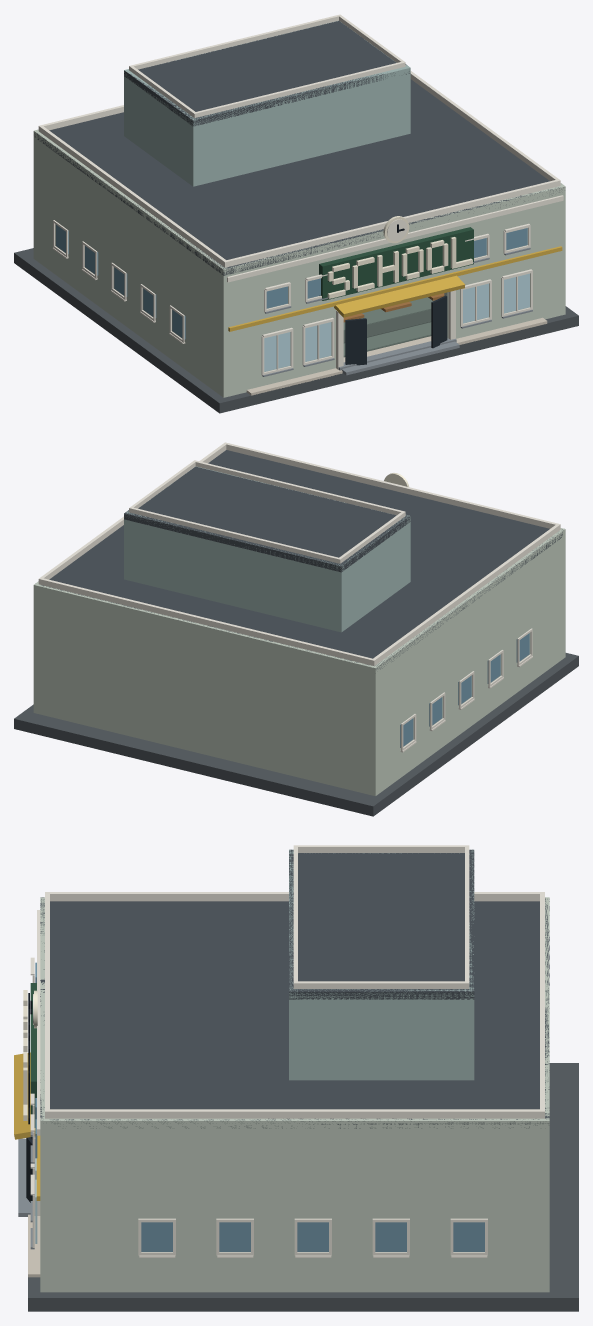
Rendered from school-building.glb.
3 renders of one model, top to bottom at view 1: azimuth 30°, elevation 25°; view 2: azimuth 150°, elevation 25°; view 3: azimuth 270°, elevation 25°, orthographic. The views are drawn at different scales.
Visible parts, largest first — view 1: school_cutaway_roof, school_exterior_detail, school_hull_wall_left, school_hull_wall_front, school_cutaway_upper, school_foundation, school_interior, school_hull_wall_right, school_hull_wall_back; view 2: school_cutaway_roof, school_hull_wall_back, school_hull_wall_left, school_cutaway_upper, school_foundation, school_exterior_detail, school_hull_wall_front; view 3: school_cutaway_roof, school_hull_wall_right, school_foundation, school_cutaway_upper, school_exterior_detail, school_hull_wall_back, school_hull_wall_front.
Part boxes in pixels (<box>): school_cutaway_roof: <box>34,14,563,275</box>; school_exterior_detail: <box>52,195,563,376</box>; school_hull_wall_left: <box>33,131,229,397</box>; school_hull_wall_front: <box>220,184,565,396</box>; school_cutaway_upper: <box>124,20,410,186</box>; school_foundation: <box>14,248,578,413</box>; school_interior: <box>343,293,444,357</box>; school_hull_wall_right: <box>558,183,565,314</box>; school_hull_wall_back: <box>33,129,39,260</box>; school_cutaway_roof: <box>38,442,563,669</box>; school_hull_wall_back: <box>33,583,378,796</box>; school_hull_wall_left: <box>370,528,565,795</box>; school_cutaway_upper: <box>124,466,410,632</box>; school_foundation: <box>14,653,578,816</box>; school_exterior_detail: <box>384,473,532,752</box>; school_hull_wall_front: <box>561,528,565,658</box>; school_cutaway_roof: <box>40,845,549,1128</box>; school_hull_wall_right: <box>40,1117,549,1292</box>; school_foundation: <box>18,1063,578,1311</box>; school_cutaway_upper: <box>289,849,474,1080</box>; school_exterior_detail: <box>14,910,487,1257</box>; school_hull_wall_back: <box>541,897,549,1292</box>; school_hull_wall_front: <box>40,897,48,1291</box>.
Bounding box in the file's own units: 22.8 × 12.67 × 23.18.
